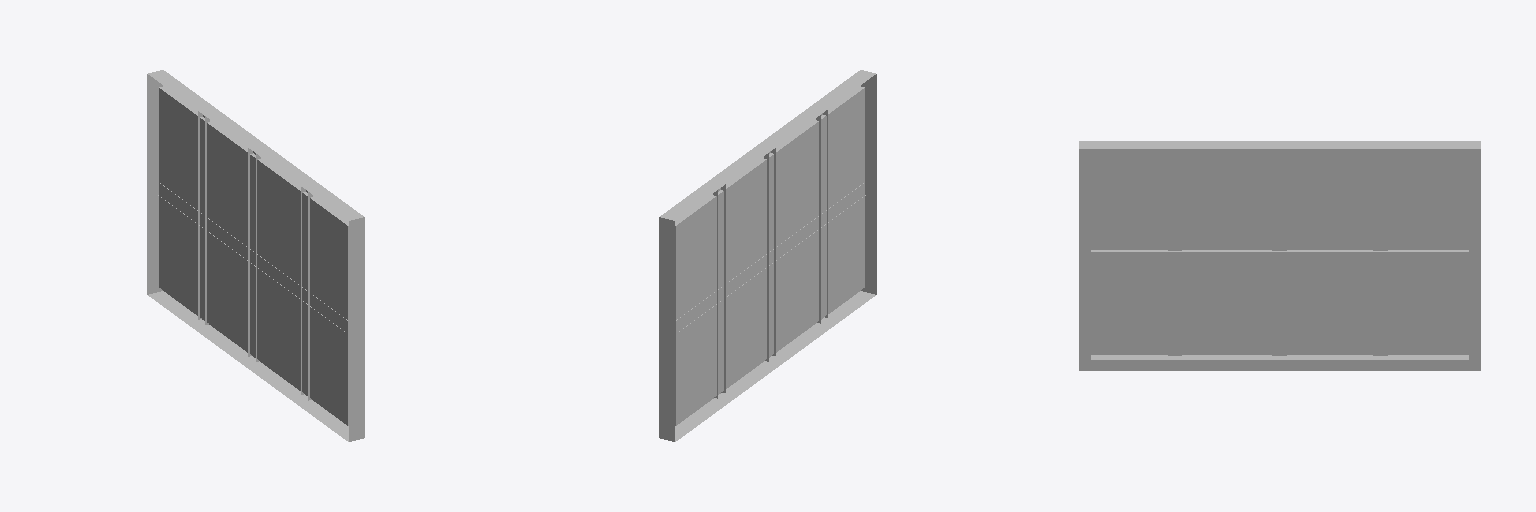
File: window.obj
3 views of the same model, side by side, from view 1: azimuth 30°, elevation 25°; view 2: azimuth 150°, elevation 25°; view 3: azimuth 270°, elevation 25° (orthographic).
Parts seen in each view (by area): view 1: pCube5; view 2: pCube5; view 3: pCube5.
Boxes of the visible parts, x1,y1,x2,y2 form: pCube5: [147, 70, 364, 441]; pCube5: [659, 70, 876, 441]; pCube5: [1079, 141, 1480, 370].
Bounding box in the file's own units: 14.11 × 185 × 304.